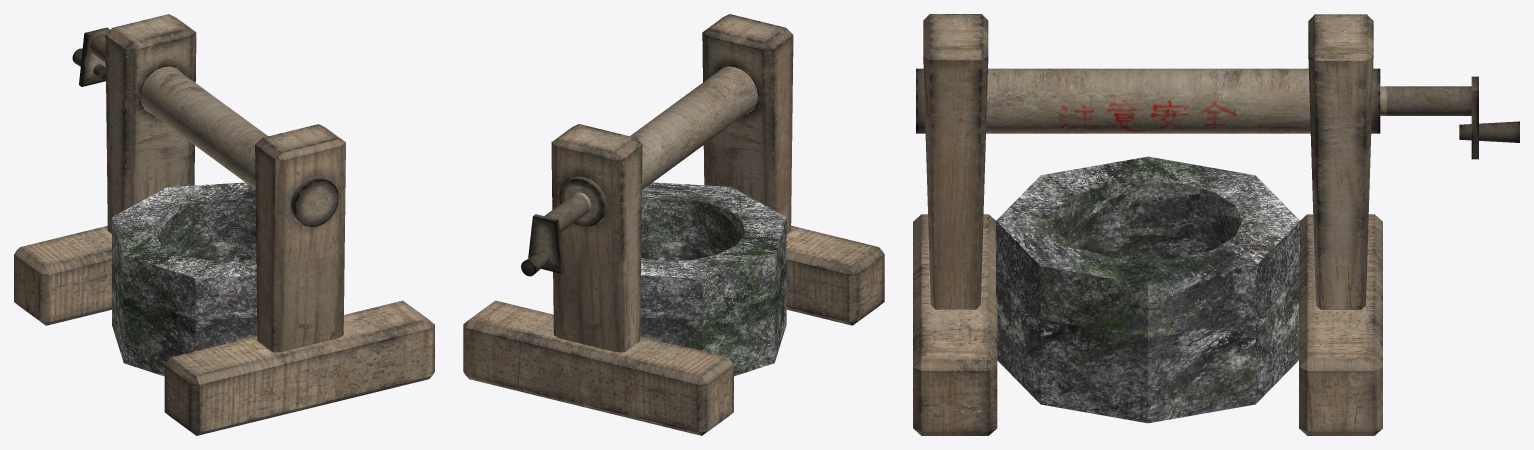
File: well.fbx
The picture shows the model from 3 angles, left to right: view 1: azimuth 30°, elevation 25°; view 2: azimuth 150°, elevation 25°; view 3: azimuth 270°, elevation 25°; orthographic projection. The views are drawn at different scales.
Parts seen in each view (by area): view 1: well:pCube7, well:pPipe3, pCylinder4; view 2: well:pCube7, well:pPipe3, pCylinder4; view 3: well:pPipe3, well:pCube7, pCylinder4.
Boxes of the visible parts, x1=… form: well:pCube7: x1=14, y1=14, x2=434, y2=435; well:pPipe3: x1=112, y1=182, x2=257, y2=376; pCylinder4: x1=72, y1=27, x2=338, y2=226; well:pCube7: x1=463, y1=14, x2=884, y2=435; well:pPipe3: x1=640, y1=182, x2=786, y2=376; pCylinder4: x1=521, y1=66, x2=757, y2=276; well:pPipe3: x1=996, y1=156, x2=1299, y2=423; well:pCube7: x1=913, y1=14, x2=1382, y2=435; pCylinder4: x1=916, y1=68, x2=1519, y2=159.
Bounding box in the file's own units: 2.93 × 2.97 × 4.92.
